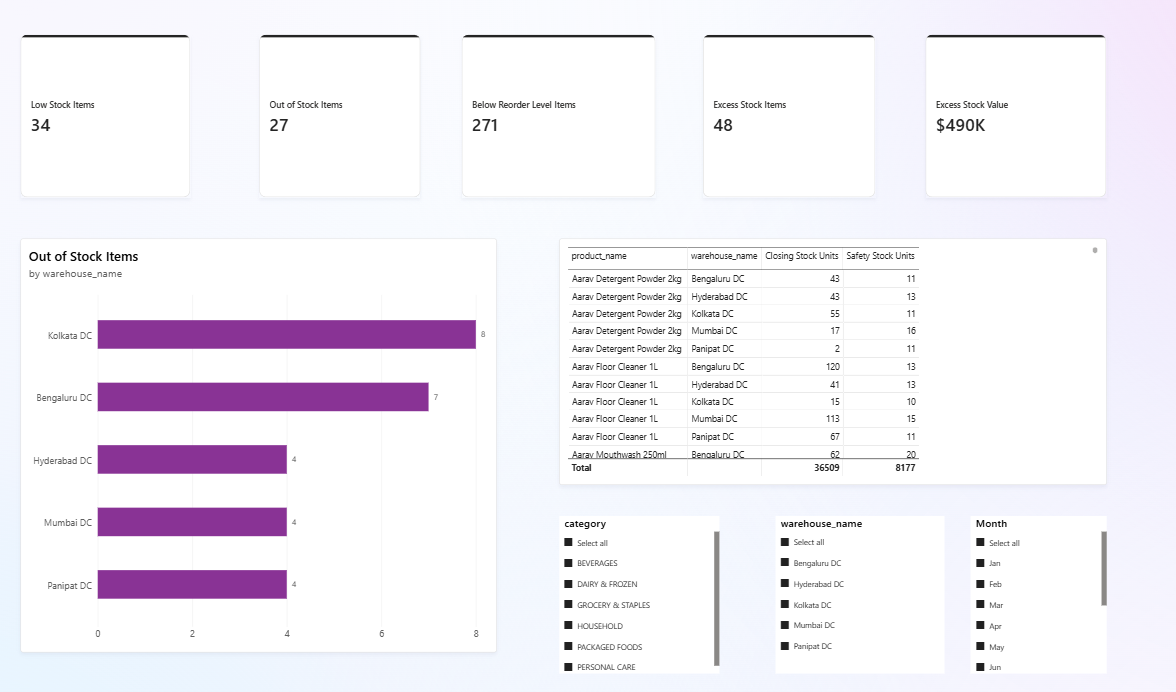

Layout of this report page (visuals, bound fields, positions):
{"tool":"powerbi","page":{"name":"Inventory Health","canvas":[1920,1080],"ordinal":1},"visuals":[{"type":"slicer","fields":{"Values":["dim_warehouse.warehouse_name"]},"box":[1196.2,800,259.6,242.3],"z":0},{"type":"slicer","fields":{"Values":["dim_date.Month"]},"box":[1496.2,800,209.6,242.3],"z":1000},{"type":"clusteredBarChart","fields":{"Category":["dim_warehouse.warehouse_name"],"Y":["_Measures.Out of Stock Items"]},"box":[34.6,373.1,732.7,636.5],"z":2000},{"type":"tableEx","fields":{"Values":["dim_product.product_name","dim_warehouse.warehouse_name","_Measures.Closing Stock Units","_Measures.Safety Stock Units"]},"box":[863.5,373.1,842.3,378.8],"z":3000},{"type":"cardVisual","fields":{"Data":["_Measures.Out of Stock Items"]},"box":[401.9,59.6,248.1,250],"z":4000},{"type":"cardVisual","fields":{"Data":["_Measures.Low Stock Items"]},"box":[34.6,59.6,261.5,250],"z":5000},{"type":"cardVisual","fields":{"Data":["_Measures.Below Reorder Level Items"]},"box":[713.5,59.6,298.1,250],"z":6000},{"type":"cardVisual","fields":{"Data":["_Measures.Excess Stock Items"]},"box":[1084.6,59.6,265.4,250],"z":7000},{"type":"cardVisual","fields":{"Data":["_Measures.Excess Stock Value"]},"box":[1426.9,59.6,278.8,250],"z":8000},{"type":"slicer","fields":{"Values":["dim_product.category"]},"box":[863.5,800,246.2,242.3],"z":9000}]}

Visuals, with their boxes on the page's 1920x1080 design canvas (x1, y1, x2, y2). These are canvas units, not pixel positions in the 1176x692 screenshot, which may show the page scaled, cropped or inside an application window:
slicer - dim_warehouse.warehouse_name: (x1=1196, y1=800, x2=1456, y2=1042)
slicer - dim_date.Month: (x1=1496, y1=800, x2=1706, y2=1042)
clusteredBarChart - dim_warehouse.warehouse_name x _Measures.Out of Stock Items: (x1=35, y1=373, x2=767, y2=1010)
tableEx - dim_product.product_name x dim_warehouse.warehouse_name: (x1=864, y1=373, x2=1706, y2=752)
cardVisual - _Measures.Out of Stock Items: (x1=402, y1=60, x2=650, y2=310)
cardVisual - _Measures.Low Stock Items: (x1=35, y1=60, x2=296, y2=310)
cardVisual - _Measures.Below Reorder Level Items: (x1=714, y1=60, x2=1012, y2=310)
cardVisual - _Measures.Excess Stock Items: (x1=1085, y1=60, x2=1350, y2=310)
cardVisual - _Measures.Excess Stock Value: (x1=1427, y1=60, x2=1706, y2=310)
slicer - dim_product.category: (x1=864, y1=800, x2=1110, y2=1042)
